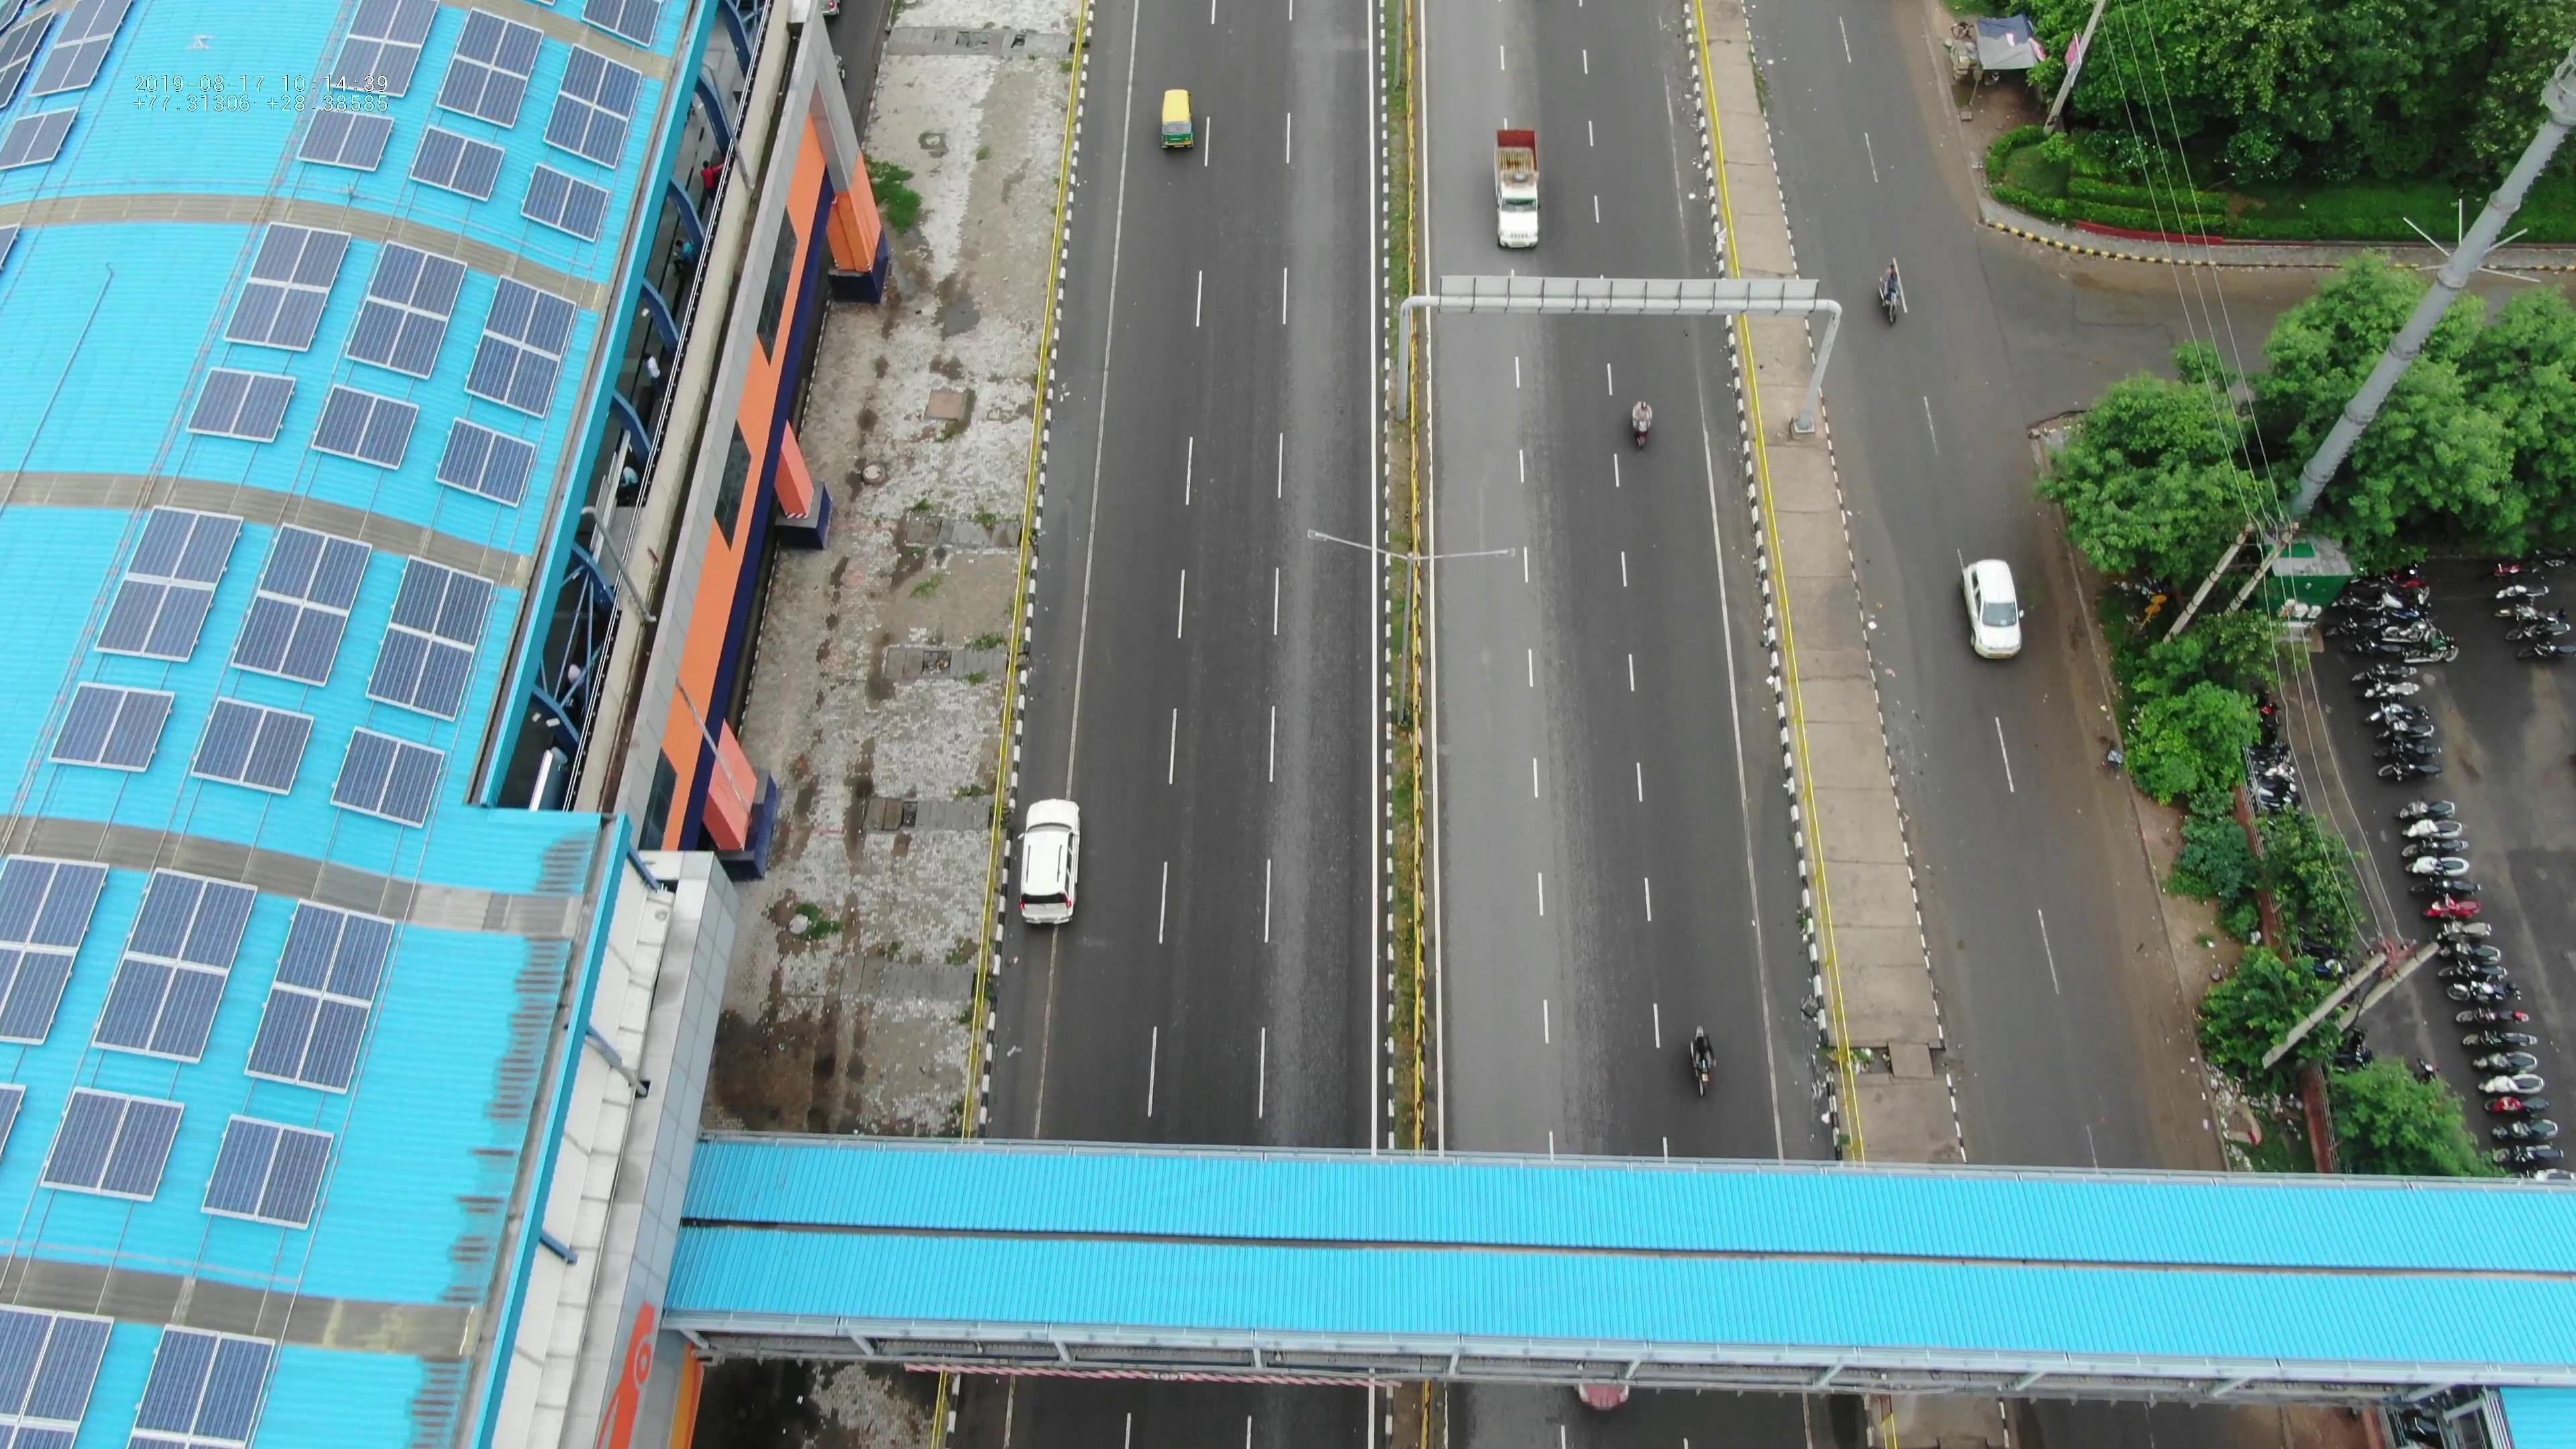Muddy_road: (2093, 899, 2194, 1125), (2045, 706, 2155, 883)
Waterlogging: (1736, 750, 1817, 1051)
